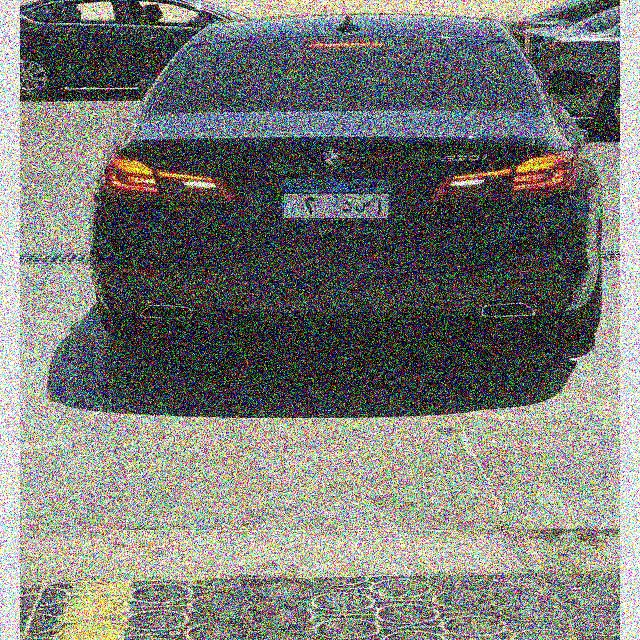License Plate: (279, 176, 394, 222)
